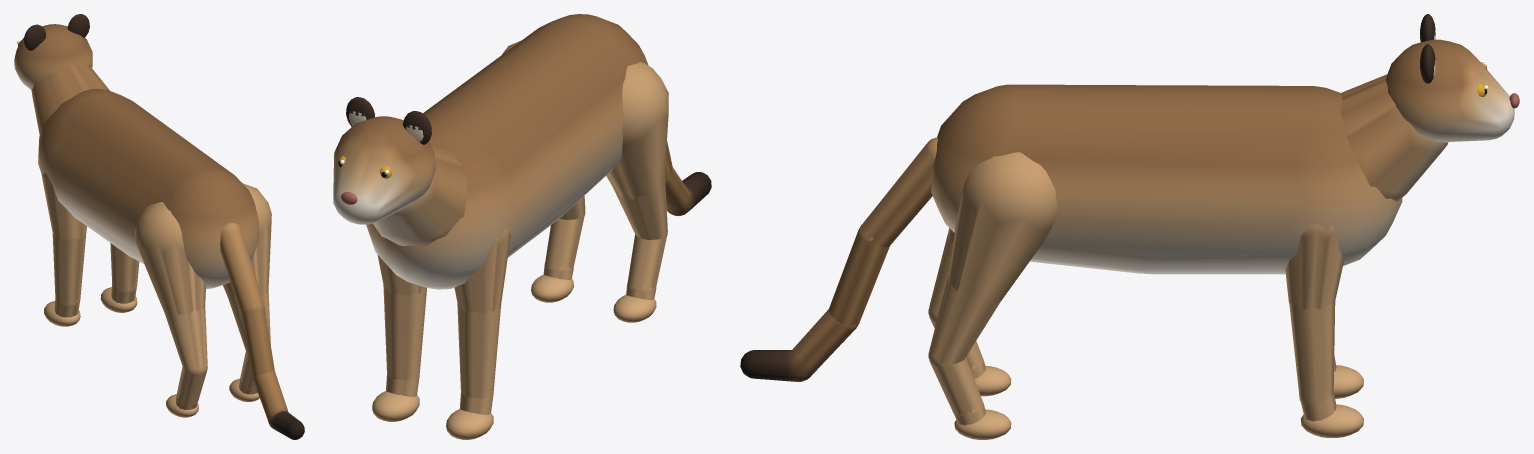
File: MountainLion.glb
3 views of the same model, side by side, from view 1: azimuth 30°, elevation 25°; view 2: azimuth 150°, elevation 25°; view 3: azimuth 270°, elevation 25° (orthographic). The views are drawn at different scales.
Visible parts, largest first — view 1: Body, LegBL, Tail, LegFL, Head, LegBR, LegFR; view 2: Body, LegBL, Head, LegFL, LegFR, LegBR, Tail; view 3: Body, LegBR, Tail, Head, LegFR, LegBL, LegFL.
Part boxes in pixels (x1,y1,x2,y2): Body: [31, 63, 259, 289]; LegBL: [134, 202, 207, 417]; Tail: [220, 223, 304, 439]; LegFL: [41, 172, 86, 326]; Head: [14, 14, 92, 89]; LegBR: [223, 183, 271, 401]; LegFR: [100, 243, 139, 312]; Body: [366, 14, 648, 289]; LegBL: [606, 62, 668, 322]; Head: [333, 97, 435, 224]; LegFL: [446, 228, 510, 439]; LegFR: [372, 254, 426, 421]; LegBR: [502, 40, 585, 302]; Tail: [665, 141, 711, 216]; Body: [931, 74, 1448, 274]; LegBR: [928, 152, 1057, 439]; Tail: [740, 137, 937, 381]; Head: [1385, 14, 1519, 142]; LegFR: [1285, 224, 1363, 437]; LegBL: [928, 228, 1011, 396]; LegFL: [1333, 356, 1363, 398].
Bounding box in the file's own units: 2.33 × 4.76 × 8.74.
1 material, 1 textured.
